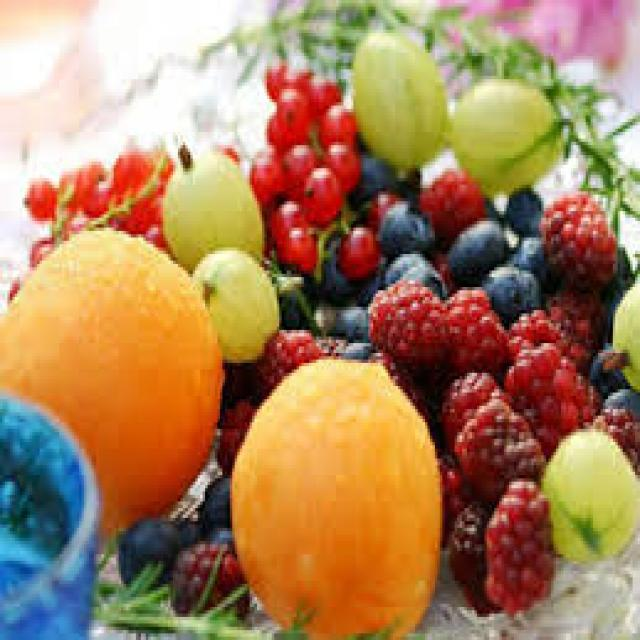organic waste: (0, 214, 217, 531), (227, 353, 440, 637), (351, 23, 447, 162), (448, 72, 558, 192), (541, 422, 638, 554), (160, 139, 260, 267), (190, 240, 279, 360), (449, 396, 544, 495), (482, 478, 551, 614), (504, 340, 593, 435), (368, 277, 445, 376), (536, 188, 613, 284), (170, 531, 244, 620), (440, 284, 506, 382), (116, 502, 183, 588), (448, 494, 490, 614), (440, 366, 499, 449), (546, 274, 606, 350), (606, 264, 638, 396), (512, 300, 578, 363), (422, 165, 482, 231), (252, 327, 319, 386), (439, 215, 502, 277), (376, 194, 435, 260), (435, 452, 472, 551), (316, 231, 364, 300), (477, 260, 536, 316), (215, 396, 259, 465), (134, 152, 170, 234), (270, 264, 316, 323), (198, 475, 237, 538), (504, 228, 551, 280), (247, 142, 289, 198), (336, 218, 376, 274), (302, 162, 338, 224), (593, 406, 638, 455), (380, 247, 435, 287), (77, 155, 116, 211), (267, 99, 306, 155), (282, 139, 314, 201), (504, 182, 539, 238), (324, 294, 363, 343), (321, 135, 356, 188), (111, 145, 148, 195), (274, 221, 314, 267), (586, 343, 622, 386), (319, 99, 351, 145), (267, 195, 301, 238), (52, 158, 79, 208), (302, 76, 334, 115), (20, 175, 49, 218), (262, 59, 289, 99), (598, 383, 638, 409), (173, 508, 203, 541), (287, 62, 316, 96), (27, 234, 52, 267), (3, 270, 27, 297)
